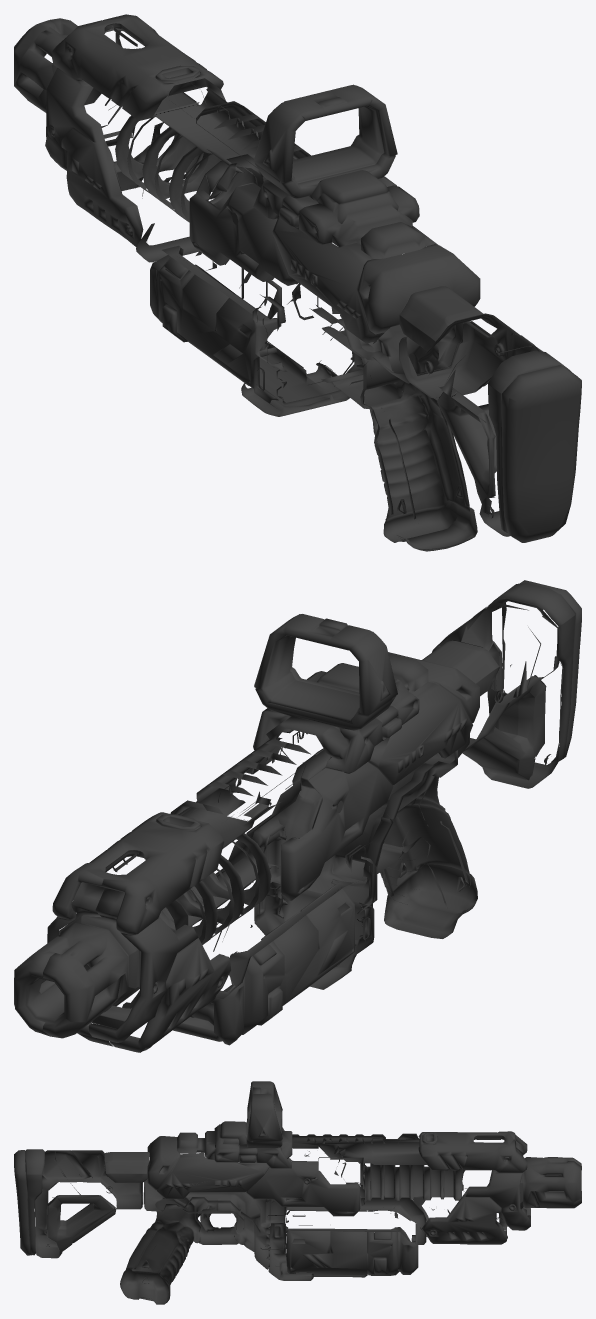
3 renders of one model, top to bottom at view 1: azimuth 30°, elevation 25°; view 2: azimuth 150°, elevation 25°; view 3: azimuth 270°, elevation 25°, orthographic. The views are drawn at different scales.
Visible parts, largest first — view 1: T00_CoreGrip_high, T05_Optic_high, T03_ReceiverShell_high, T01_FrontShroud_high, T10_ButtPad_high, T04_EnergyCell_high, T08_StockShell_high, T02_CoilAssembly_high, T07_TopRail_high, T06_Muzzle_high, T13_CheekRest_high, T09_StockBrace_high; view 2: T00_CoreGrip_high, T01_FrontShroud_high, T05_Optic_high, T03_ReceiverShell_high, T06_Muzzle_high, T04_EnergyCell_high, T02_CoilAssembly_high, T09_StockBrace_high, T07_TopRail_high, T08_StockShell_high, T10_ButtPad_high, T13_CheekRest_high (+1 smaller); view 3: T00_CoreGrip_high, T01_FrontShroud_high, T03_ReceiverShell_high, T05_Optic_high, T08_StockShell_high, T11_CellSide_high, T02_CoilAssembly_high, T06_Muzzle_high, T07_TopRail_high, T10_ButtPad_high, T09_StockBrace_high, T04_EnergyCell_high (+1 smaller).
Boxes of the visible parts, bbox=[...] form: T00_CoreGrip_high: bbox=[136, 223, 477, 551]; T05_Optic_high: bbox=[253, 84, 425, 258]; T03_ReceiverShell_high: bbox=[189, 182, 480, 343]; T01_FrontShroud_high: bbox=[45, 14, 223, 247]; T10_ButtPad_high: bbox=[488, 351, 581, 542]; T04_EnergyCell_high: bbox=[150, 247, 281, 397]; T08_StockShell_high: bbox=[399, 313, 542, 536]; T02_CoilAssembly_high: bbox=[92, 88, 267, 222]; T07_TopRail_high: bbox=[152, 78, 310, 200]; T06_Muzzle_high: bbox=[14, 18, 121, 127]; T13_CheekRest_high: bbox=[399, 286, 483, 350]; T09_StockBrace_high: bbox=[437, 388, 496, 513]; T00_CoreGrip_high: bbox=[188, 734, 477, 998]; T01_FrontShroud_high: bbox=[47, 812, 230, 1052]; T05_Optic_high: bbox=[253, 614, 428, 773]; T03_ReceiverShell_high: bbox=[236, 652, 479, 900]; T06_Muzzle_high: bbox=[14, 882, 139, 1038]; T04_EnergyCell_high: bbox=[159, 881, 354, 1045]; T02_CoilAssembly_high: bbox=[159, 815, 280, 944]; T09_StockBrace_high: bbox=[462, 676, 545, 780]; T07_TopRail_high: bbox=[127, 734, 322, 874]; T08_StockShell_high: bbox=[432, 598, 563, 788]; T10_ButtPad_high: bbox=[489, 580, 581, 765]; T13_CheekRest_high: bbox=[422, 640, 499, 696]; T00_CoreGrip_high: bbox=[120, 1179, 426, 1304]; T01_FrontShroud_high: bbox=[418, 1131, 530, 1244]; T03_ReceiverShell_high: bbox=[147, 1136, 360, 1216]; T05_Optic_high: bbox=[176, 1081, 294, 1168]; T08_StockShell_high: bbox=[34, 1150, 143, 1258]; T11_CellSide_high: bbox=[285, 1227, 390, 1274]; T02_CoilAssembly_high: bbox=[341, 1156, 468, 1208]; T06_Muzzle_high: bbox=[516, 1141, 581, 1209]; T07_TopRail_high: bbox=[292, 1133, 426, 1177]; T10_ButtPad_high: bbox=[14, 1149, 44, 1255]; T09_StockBrace_high: bbox=[47, 1182, 116, 1252]; T04_EnergyCell_high: bbox=[286, 1210, 418, 1275].
Size of the model in its own units: 0.1341 by 0.4019 by 1.
17 materials, 17 textured.
